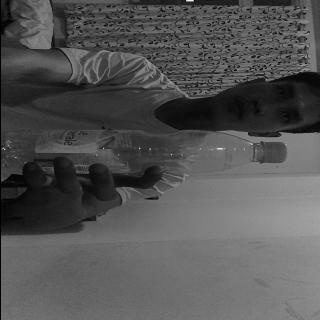plastic_bottles: (0, 129, 289, 174)
